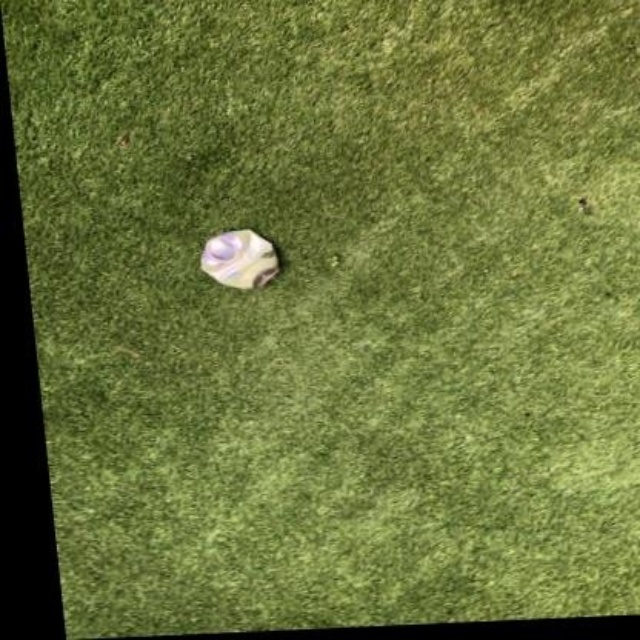trash: (202, 229, 278, 288)
